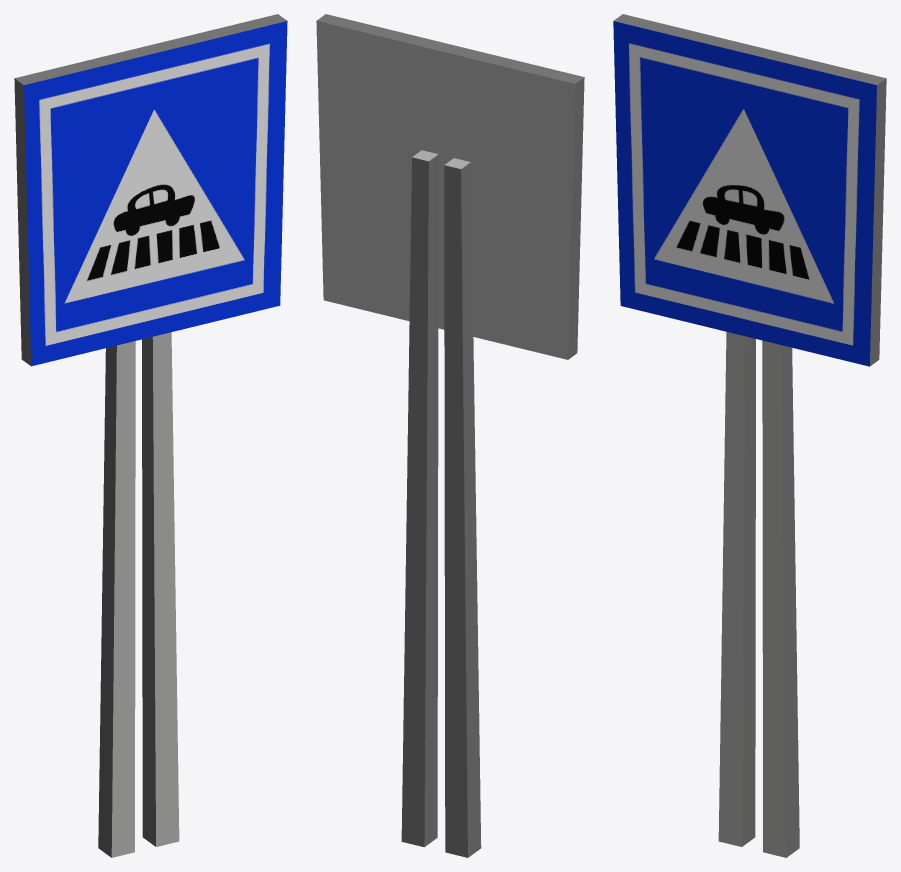
The model's file is 표지판5.fbx.
3 views of the same model, side by side, from view 1: azimuth 30°, elevation 25°; view 2: azimuth 150°, elevation 25°; view 3: azimuth 330°, elevation 25° (orthographic).
Parts seen in each view (by area): view 1: 5; view 2: 5; view 3: 5.
Part boxes in pixels (box(x1,y1,x2,y2)): 5: box(14, 14, 287, 857); 5: box(316, 14, 584, 857); 5: box(613, 14, 886, 857).
Bounding box in the file's own units: 665 × 1936 × 96.97.
Materials: 1 (1 with a texture image).
